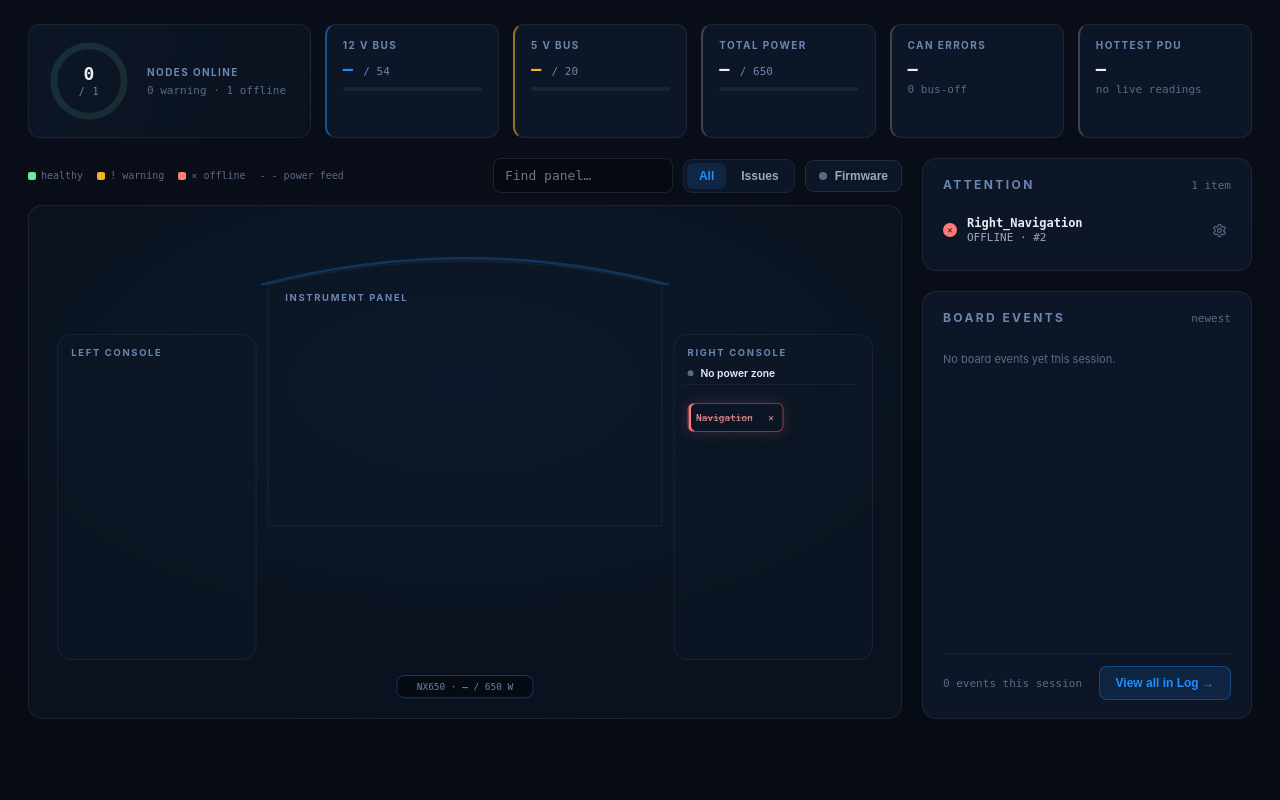
T7 Board panel footer: panel group (B73, X4) › offline: Forget and Hide are enabled, and the note says where a forgotten board comes back
Step 1. Click the button titled "#2 Right_Navigation" → (736, 417), box x1=688 y1=403 x2=784 y2=432
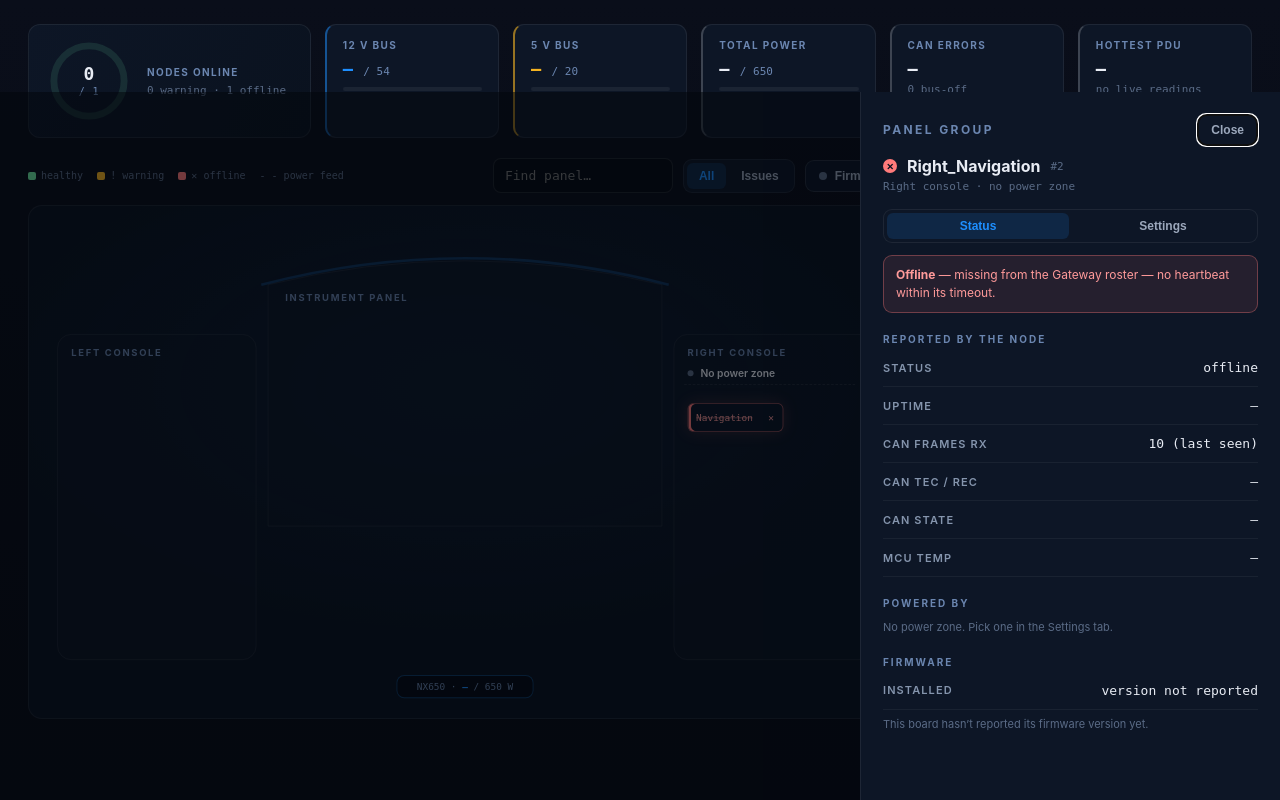
Step 2. Click the tab "Settings" → (1163, 226), box x1=1072 y1=213 x2=1254 y2=239
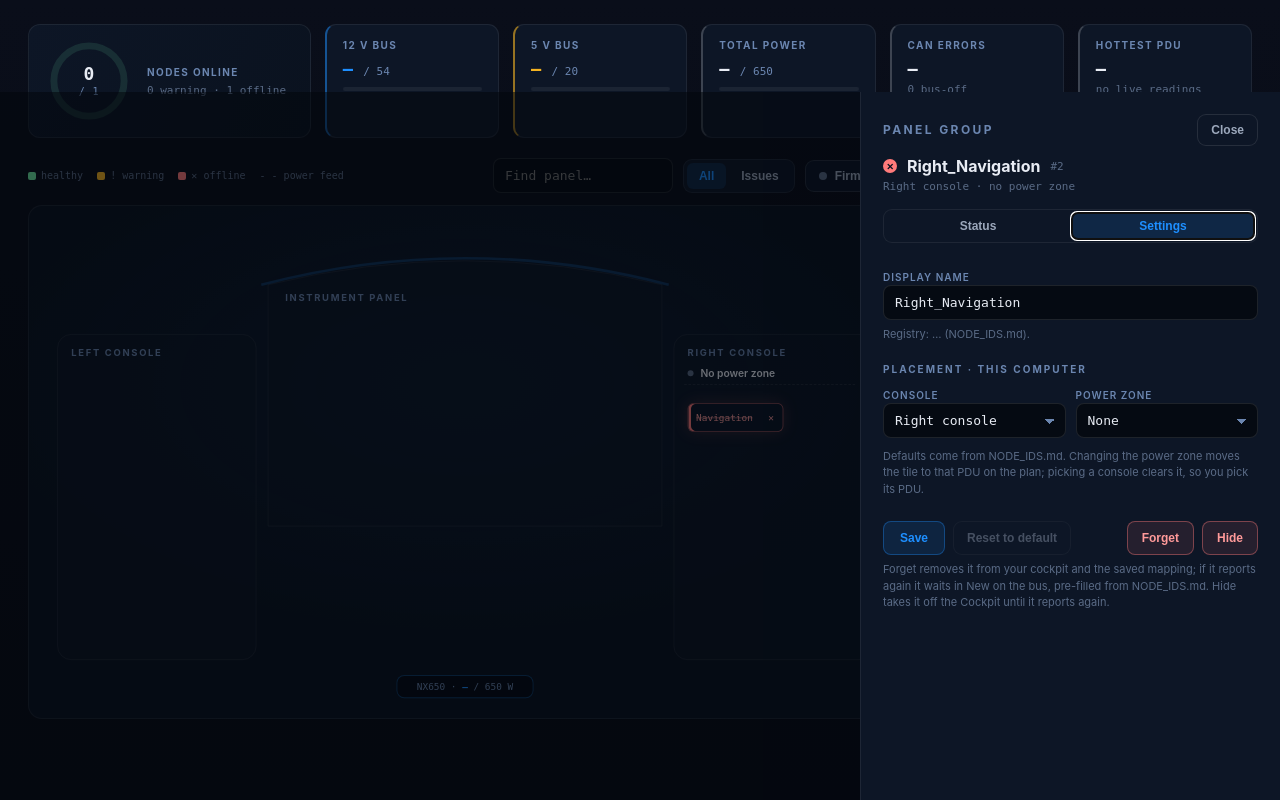
Expected: the button "Save" is enabled, x1=883 y1=521 x2=945 y2=555
Expected: the button "Forget" is enabled, x1=1127 y1=521 x2=1194 y2=555
Expected: the button "Hide" is enabled, x1=1202 y1=521 x2=1258 y2=555
